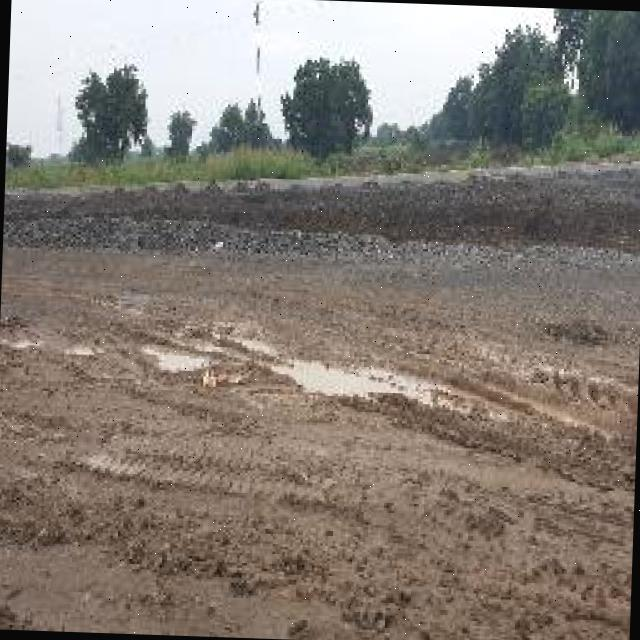stagnation: (56, 324, 456, 397)
